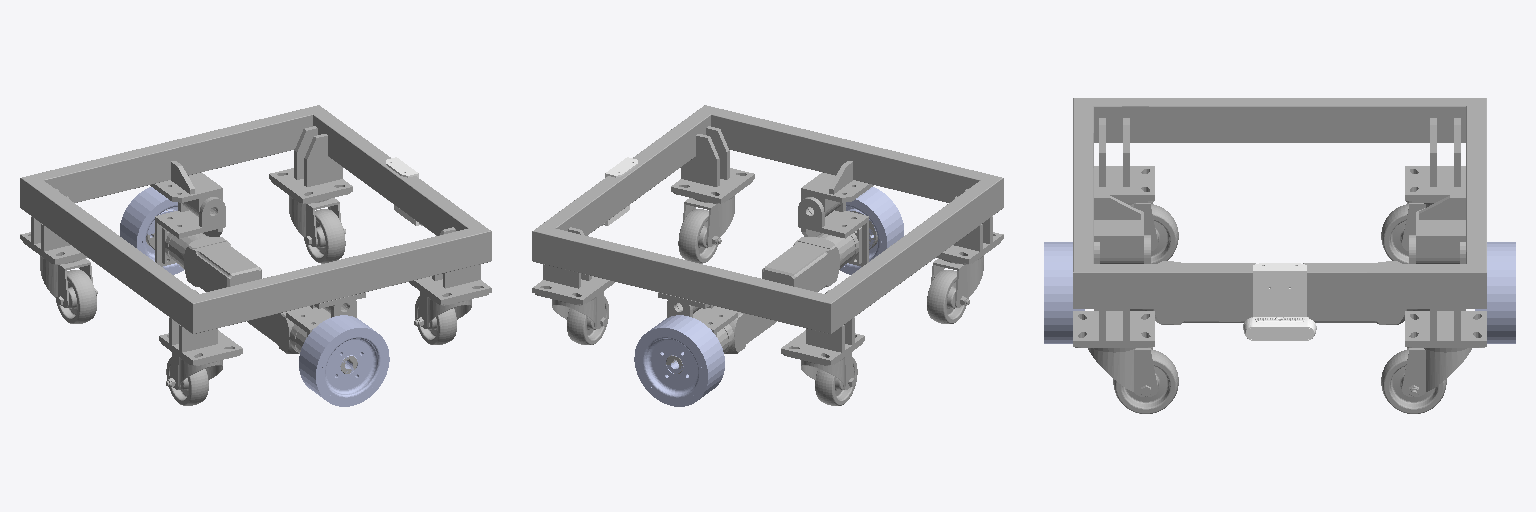
URDF robot description (int300):
<?xml version="1.0" encoding="utf-8"?>
<!-- This URDF was automatically created by SolidWorks to URDF Exporter! Originally created by [author] ([email redacted]) 
     Commit Version: 1.6.0-1-g15f4949  Build Version: 1.6.7594.29634
     For more information, please see http://wiki.ros.org/sw_urdf_exporter -->
<robot
  name="int300">
  <link
    name="base_link">
    <inertial>
      <origin
        xyz="9.7076E-05 -1.3143E-10 0.081556"
        rpy="0 0 0" />
      <mass
        value="3.7103" />
      <inertia
        ixx="0.036134"
        ixy="8.0952E-10"
        ixz="-1.9413E-05"
        iyy="0.032568"
        iyz="-4.1125E-07"
        izz="0.066552" />
    </inertial>
    <visual>
      <origin
        xyz="0 0 0"
        rpy="0 0 0" />
      <geometry>
        <mesh
          filename="package://int300/meshes/base_link.STL" />
      </geometry>
      <material
        name="">
        <color
          rgba="0.75294 0.75294 0.75294 1" />
      </material>
    </visual>
    <collision>
      <origin
        xyz="0 0 0"
        rpy="0 0 0" />
      <geometry>
        <mesh
          filename="package://int300/meshes/base_link.STL" />
      </geometry>
    </collision>
  </link>
  <link
    name="Right_wheel">
    <inertial>
      <origin
        xyz="-1.559E-05 0.014545 0.00017805"
        rpy="0 0 0" />
      <mass
        value="0.41627" />
      <inertia
        ixx="0.00056134"
        ixy="-1.1117E-09"
        ixz="-2.8584E-09"
        iyy="0.00097314"
        iyz="1.2697E-08"
        izz="0.00056137" />
    </inertial>
    <visual>
      <origin
        xyz="0 0 0"
        rpy="0 0 0" />
      <geometry>
        <mesh
          filename="package://int300/meshes/Right_wheel.STL" />
      </geometry>
      <material
        name="">
        <color
          rgba="0.79216 0.81961 0.93333 1" />
      </material>
    </visual>
    <collision>
      <origin
        xyz="0 0 0"
        rpy="0 0 0" />
      <geometry>
        <mesh
          filename="package://int300/meshes/Right_wheel.STL" />
      </geometry>
    </collision>
  </link>
  <joint
    name="right_wheel_joint"
    type="continuous">
    <origin
      xyz="-0.0024835 -0.2775 0.039812"
      rpy="0 0 0" />
    <parent
      link="base_link" />
    <child
      link="Right_wheel" />
    <axis
      xyz="0 1 0" />
  </joint>
  <link
    name="Left_wheel">
    <inertial>
      <origin
        xyz="-1.6175E-05 0.014545 -0.000178"
        rpy="0 0 0" />
      <mass
        value="0.41627" />
      <inertia
        ixx="0.00056134"
        ixy="-1.1535E-09"
        ixz="2.9658E-09"
        iyy="0.00097314"
        iyz="-1.2693E-08"
        izz="0.00056137" />
    </inertial>
    <visual>
      <origin
        xyz="0 0 0"
        rpy="0 0 0" />
      <geometry>
        <mesh
          filename="package://int300/meshes/Left_wheel.STL" />
      </geometry>
      <material
        name="">
        <color
          rgba="0.79216 0.81961 0.93333 1" />
      </material>
    </visual>
    <collision>
      <origin
        xyz="0 0 0"
        rpy="0 0 0" />
      <geometry>
        <mesh
          filename="package://int300/meshes/Left_wheel.STL" />
      </geometry>
    </collision>
  </link>
  <joint
    name="left_wheel_joint"
    type="continuous">
    <origin
      xyz="-0.0024829 0.2775 0.039812"
      rpy="3.1416 0 0" />
    <parent
      link="base_link" />
    <child
      link="Left_wheel" />
    <axis
      xyz="0 -1 0" />
  </joint>

 <!-- *****************************camera***************************** -->
 <link
    name="camera_link">
    <inertial>
      <origin
        xyz="0 0 0"
        rpy="0 0 0" />
      <mass
        value="0" />
      <inertia
        ixx="0"
        ixy="0"
        ixz="0"
        iyy="0"
        iyz="0"
        izz="0" />
    </inertial>
    <visual>
      <origin
        xyz="0 0 0"
        rpy="0 0 0" />
      <geometry>
        <mesh
          filename="package://int300/meshes/CAM.STL" />
      </geometry>
      <material
        name="">
        <color
          rgba="1 1 1 1" />
      </material>
    </visual>
    <collision>
      <origin
        xyz="0 0 0"
        rpy="0 0 0" />
      <geometry>
        <mesh
          filename="package://int300/meshes/CAM.STL" />
      </geometry>
    </collision>
  </link>

  <joint
    name="camera_joint"
    type="fixed">
    <origin
      xyz="0.281450000000119 0 0.109706094389698"
      rpy="0 0 0" />
    <parent
      link="base_link" />

    <child
      link="camera_link" />

    <axis

      xyz="0 0 1" />

  </joint>


  <!--************************************* depth camera *****************************************************************>
  <link
    name="camera_link">
    <inertial>
      <origin
        xyz="0 0 0"
        rpy="0 0 0" />
      <mass
        value="0" />
      <inertia
        ixx="0"
        ixy="0"
        ixz="0"
        iyy="0"
        iyz="0"
        izz="0" />
    </inertial>
    <visual>
      <origin
        xyz="0 0 0"
        rpy="0 0 0" />
      <geometry>
        <mesh
          filename="package://int300/meshes/CAM.STL" />
      </geometry>
      <material
        name="">
        <color
          rgba="1 1 1 1" />
      </material>
    </visual>
    <collision>
      <origin
        xyz="0 0 0"
        rpy="0 0 0" />
      <geometry>
        <mesh
          filename="package://int300/meshes/CAM.STL" />
      </geometry>
    </collision>
  </link>
  <joint
    name="camera_joint"
    type="fixed">
    <origin
      xyz="0.281450000000119 0 0.109706094389698"
      rpy="0 0 0" />
    <parent
      link="base_link" />
    <child
      link="camera_link" />
    <axis
      xyz="0 0 0" />
  </joint>


 <joint name="camera_rgb_joint" type="fixed">
    <origin xyz="0.003 0.011 0.009" rpy="0 0 0"/>
    <parent link="camera_link"/>
    <child link="camera_rgb_frame"/>
  </joint>
  <link name="camera_rgb_frame"/>

  <joint name="camera_rgb_optical_joint" type="fixed">
    <origin xyz="0 0 0" rpy="-1.57 0 -1.57"/>
    <parent link="camera_rgb_frame"/>
    <child link="camera_rgb_optical_frame"/>
  </joint>
  <link name="camera_rgb_optical_frame"/>

  <!depth camera >



<gazebo reference="camera_rgb_frame">
  <sensor name="camera_link_camera" type="depth">
    <update_rate>20</update_rate>
    <camera>
      <horizontal_fov>1.047198</horizontal_fov>
      <image>
        <width>1920</width>
        <height>1080</height>
        <format>R8G8B8</format>
      </image>
      <clip>
        <near>0.05</near>
        <far>3</far>
      </clip>
    </camera>
    <plugin name="camera_link_controller" filename="libgazebo_ros_openni_kinect.so">
      <baseline>0.2</baseline>
      <alwaysOn>true</alwaysOn>
      <updateRate>1.0</updateRate>       
      <cameraName>kinect_ir</cameraName>
      <imageTopicName>/kinect/color/image_raw</imageTopicName>
      <cameraInfoTopicName>/kinect/color/camera_info</cameraInfoTopicName>
      <depthImageTopicName>/kinect/depth/image_raw</depthImageTopicName>
      <depthImageInfoTopicName>/kinect/depth/camera_info</depthImageInfoTopicName>
      <pointCloudTopicName>/kinect/depth/points</pointCloudTopicName>
      <frameName>camera_rgb_optical_frame</frameName>
      <pointCloudCutoff>0.5</pointCloudCutoff>
      <pointCloudCutoffMax>3.0</pointCloudCutoffMax>
      <distortionK1>0.00000001</distortionK1>
      <distortionK2>0.00000001</distortionK2>
      <distortionK3>0.00000001</distortionK3>
      <distortionT1>0.00000001</distortionT1>
      <distortionT2>0.00000001</distortionT2>
      <CxPrime>0</CxPrime>
      <Cx>0</Cx>
      <Cy>0</Cy>
      <focalLength>0</focalLength>
      <hackBaseline>0</hackBaseline>
    </plugin>
  </sensor>
</gazebo-->


   <!--*******************************************DIFFDRIVE*****************************>

  <gazebo>
    <plugin filename="libgazebo_ros_diff_drive.so" name="differential_drive_controller">
      <rosDebugLevel>Debug</rosDebugLevel>
      <robotNamespace>/</robotNamespace>
      <publishWheelTF>true</publishWheelTF>
      <publishWheelJointState>true</publishWheelJointState>
      <alwaysOn>true</alwaysOn>
      <leftJoint>left_wheel_joint</leftJoint>
      <rightJoint>right_wheel_joint</rightJoint>
      <wheelAcceleration>1.8</wheelAcceleration>
      <commandTopic>cmd_vel</commandTopic>
      <odometryTopic>odom</odometryTopic>
      <odometryFrame>odom</odometryFrame>
      <odometrySource>world</odometrySource>
      <robotBaseFrame>base_link</robotBaseFrame>
      <updateRate>10.0</updateRate>     
    </plugin>
  </gazebo-->

</robot>

--- Facts derived from the render (not from the file) ---
3 views of the same robot in one strip: view 1: azimuth 30°, elevation 25°; view 2: azimuth 150°, elevation 25°; view 3: azimuth 270°, elevation 25° (orthographic).
Model int300 with 4 links and 3 joints (2 continuous, 1 fixed), rooted at base_link, posed every joint at zero.
Links seen in each view (by area): view 1: base_link, Right_wheel, Left_wheel; view 2: base_link, Left_wheel, Right_wheel; view 3: base_link, camera_link, Right_wheel, Left_wheel.
Link boxes in pixels (x1,y1,x2,y2): base_link: (20,105,491,405); Right_wheel: (299,315,389,406); Left_wheel: (120,187,183,274); base_link: (532,105,1003,405); Left_wheel: (634,315,724,406); Right_wheel: (840,187,903,274); base_link: (1073,98,1486,413); camera_link: (1243,263,1316,340); Right_wheel: (1044,242,1084,343); Left_wheel: (1475,242,1515,343).
Size in the robot's own frame: 0.534 by 0.575 by 0.2127 metres.
Meshes: 4 distinct files referenced, 4 mesh visuals loaded (4 binary STL).
